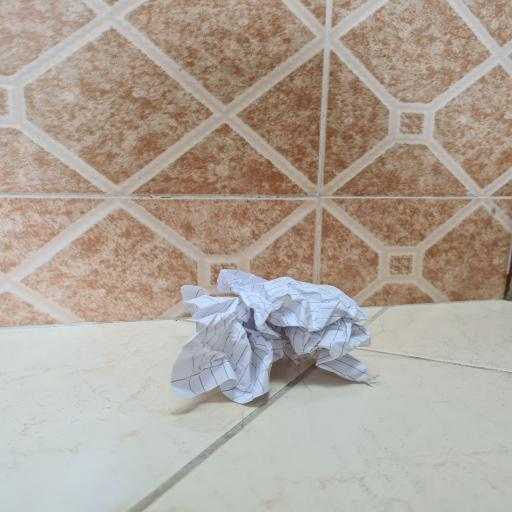Kertas: (172, 270, 371, 403)
